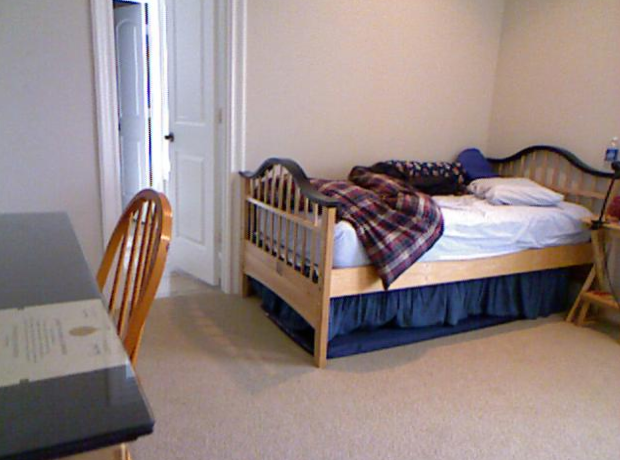chair: (100, 189, 174, 360)
door: (169, 1, 215, 263), (118, 4, 143, 188)
openedDoor: (116, 2, 214, 186)
